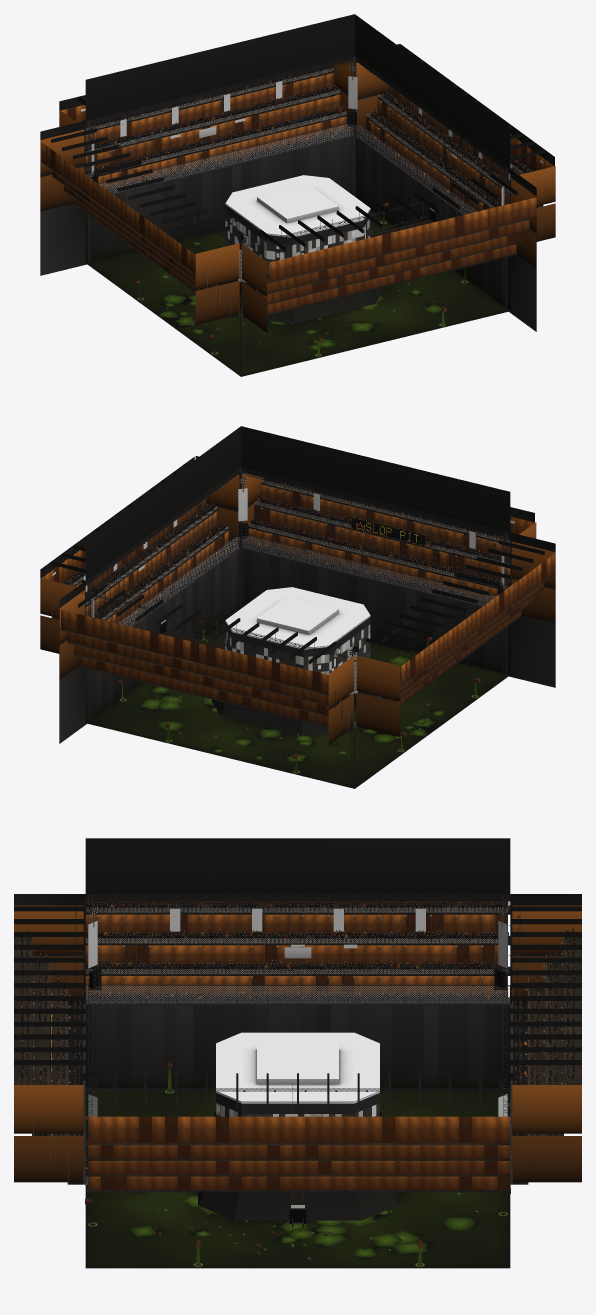
Rendered from SlopPitArena.fbx.
3 renders of one model, top to bottom at view 1: azimuth 30°, elevation 25°; view 2: azimuth 150°, elevation 25°; view 3: azimuth 270°, elevation 25°, orthographic. The views are drawn at different scales.
Visible parts, largest first — view 1: Stands, Pit, Haze, Venue Glow, Crowd, Fences, Ringside Floor, Ring Tower, Ring, Banners; view 2: Stands, Pit, Haze, Venue Glow, Crowd, Fences, Ringside Floor, Ring Tower, Ring, Banners; view 3: Stands, Pit, Haze, Venue Glow, Crowd, Fences, Ringside Floor, Ring, Ring Tower, Banners.
Boxes of the visible parts, <box> form: Stands: <box>40,14,554,375</box>; Pit: <box>85,135,510,376</box>; Haze: <box>41,73,553,316</box>; Venue Glow: <box>40,61,555,356</box>; Crowd: <box>85,66,537,316</box>; Fences: <box>86,68,523,315</box>; Ringside Floor: <box>225,175,370,235</box>; Ring Tower: <box>225,203,370,277</box>; Ring: <box>257,184,338,222</box>; Banners: <box>120,80,512,243</box>; Stands: <box>40,426,555,787</box>; Pit: <box>85,547,510,788</box>; Haze: <box>42,484,555,726</box>; Venue Glow: <box>40,473,555,773</box>; Crowd: <box>57,478,510,728</box>; Fences: <box>72,479,509,727</box>; Ringside Floor: <box>225,587,370,647</box>; Ring Tower: <box>225,615,370,674</box>; Ring: <box>257,596,338,634</box>; Banners: <box>83,492,475,655</box>; Stands: <box>14,838,581,1266</box>; Pit: <box>83,1003,512,1268</box>; Haze: <box>85,901,510,1190</box>; Venue Glow: <box>14,905,581,1266</box>; Crowd: <box>20,901,575,1183</box>; Fences: <box>86,907,509,1184</box>; Ringside Floor: <box>216,1032,379,1101</box>; Ring: <box>257,1044,338,1084</box>; Ring Tower: <box>216,1032,379,1116</box>; Banners: <box>33,901,562,1109</box>.
Bounding box in the file's own units: 111 × 55 × 111.
